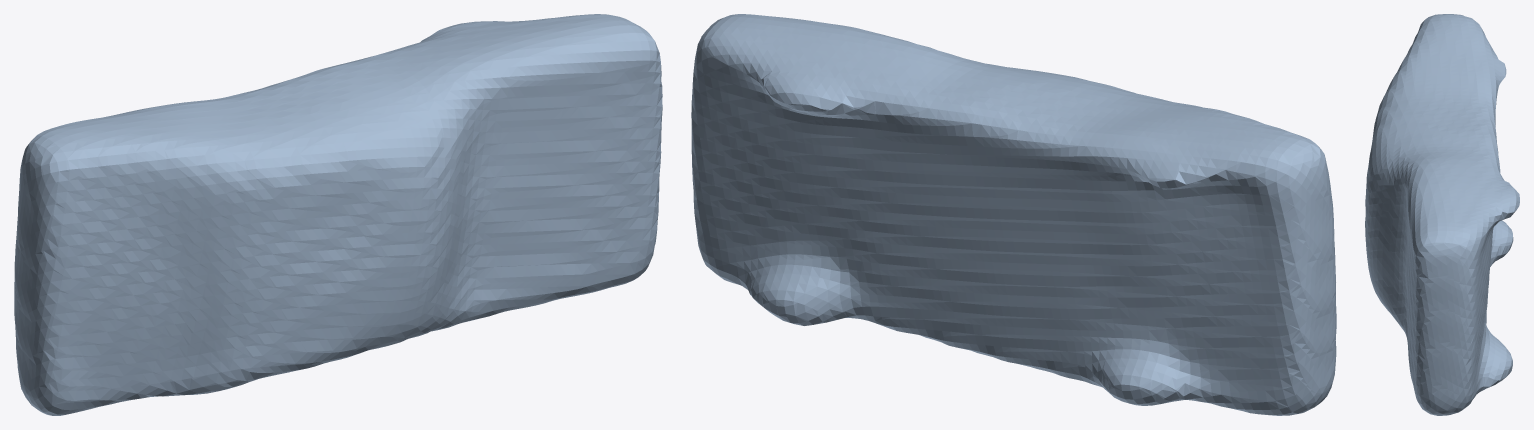
3 renders of one model, left to right at view 1: azimuth 30°, elevation 25°; view 2: azimuth 150°, elevation 25°; view 3: azimuth 270°, elevation 25°, orthographic. The views are drawn at different scales.
Parts seen in each view (by area): view 1: ours_mesh; view 2: ours_mesh; view 3: ours_mesh.
Boxes of the visible parts, x1=… form: ours_mesh: x1=14, y1=14, x2=662, y2=415; ours_mesh: x1=691, y1=14, x2=1336, y2=415; ours_mesh: x1=1365, y1=14, x2=1519, y2=415.
Bounding box in the file's own units: 0.5998 × 0.2492 × 0.1758.
